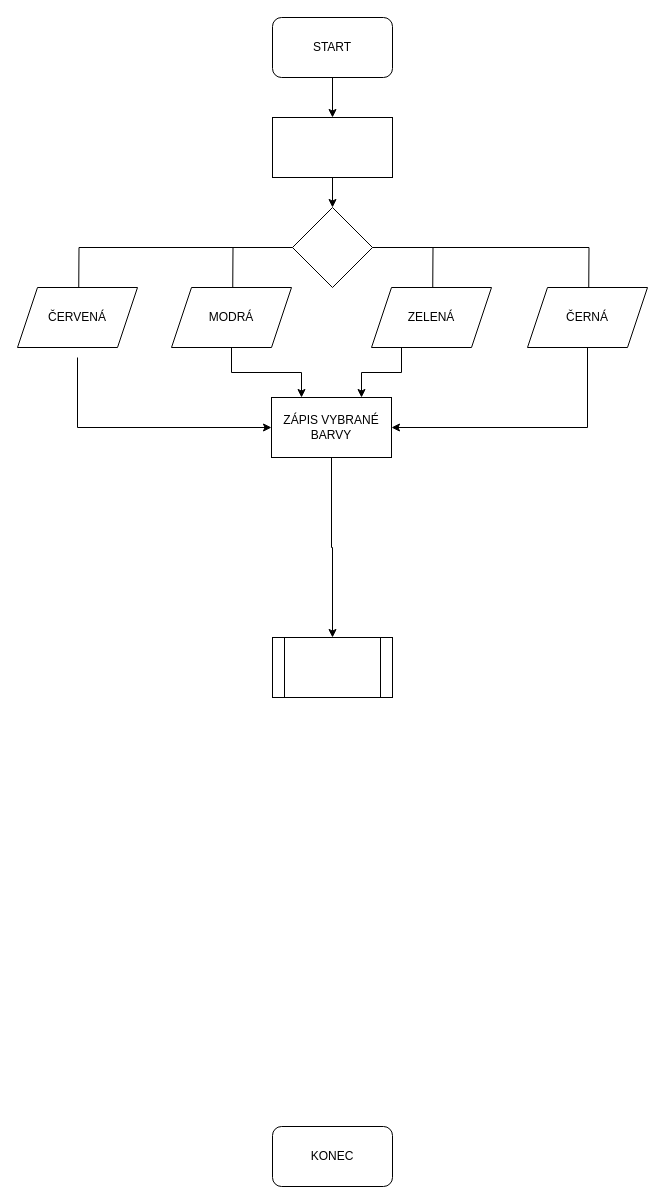
The diagram is 665 pixels wide and 1204 high, and some of its shapes have lost their labels. Each missing label, with the box of its shape:
JAKÁ JE BARVA?: (292, 206, 372, 288)
RADAR: (272, 636, 392, 698)
VÝBĚR BARVY HLEDANÉ KOSTKY: (272, 116, 392, 178)
